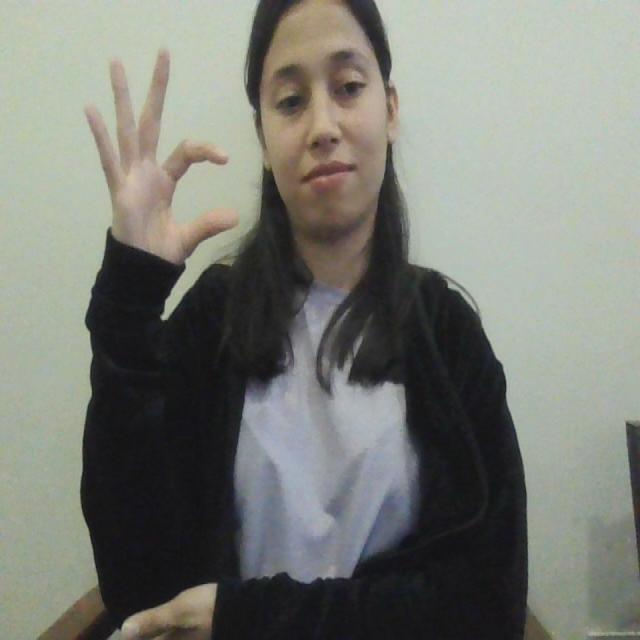Tuvalet: (54, 22, 286, 372)
